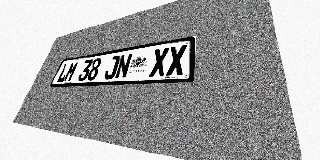3: (77, 59, 94, 81)
8: (86, 58, 103, 81)
J: (103, 55, 121, 80)
L: (56, 63, 71, 83)
M: (63, 61, 79, 82)
N: (114, 53, 133, 79)
X: (166, 45, 187, 76), (149, 47, 169, 77)
